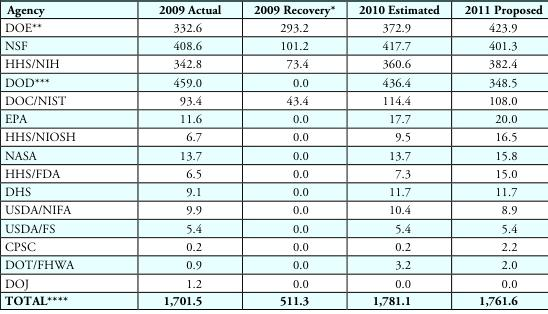table: (3, 4, 541, 307)
table column: (116, 4, 236, 307), (3, 4, 116, 307), (236, 4, 346, 307), (346, 4, 451, 307), (451, 4, 541, 307)
table column header: (3, 4, 541, 19)
table row: (3, 91, 541, 110), (3, 164, 541, 183), (3, 237, 541, 256), (3, 19, 541, 37), (3, 37, 541, 55), (3, 55, 541, 73), (3, 73, 541, 91), (3, 110, 541, 128), (3, 128, 541, 146), (3, 146, 541, 164), (3, 183, 541, 201), (3, 201, 541, 219), (3, 219, 541, 237), (3, 256, 541, 274), (3, 274, 541, 292), (3, 4, 541, 19), (3, 292, 541, 307)
